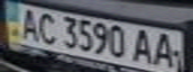0: (106, 24, 130, 60)
3: (57, 15, 81, 49)
5: (75, 18, 93, 53)
9: (90, 20, 112, 55)
A: (151, 30, 184, 69), (130, 27, 157, 65), (15, 6, 42, 42)
C: (33, 10, 60, 45)
